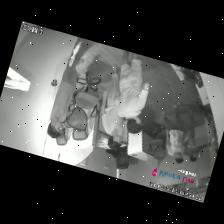person: (114, 50, 149, 132), (48, 58, 83, 137), (101, 65, 125, 148), (163, 102, 188, 163), (185, 108, 211, 161), (199, 105, 219, 152)
